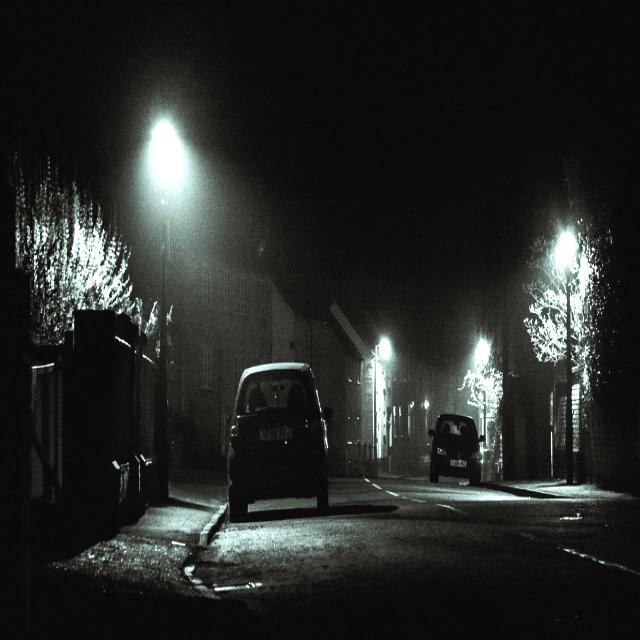Car: (229, 358, 334, 523), (426, 410, 486, 488)
